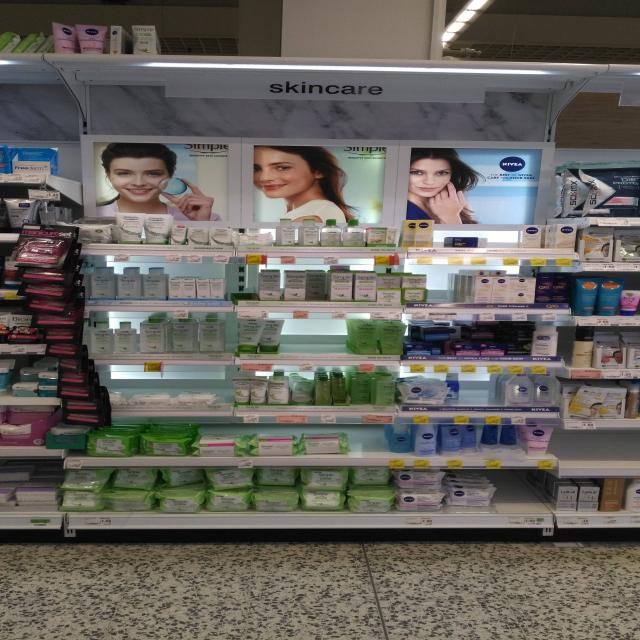empty_space: (0, 0, 15, 51), (0, 0, 14, 28), (0, 0, 14, 21), (0, 0, 14, 20), (0, 0, 7, 38), (0, 0, 8, 33), (0, 0, 9, 29), (0, 0, 13, 20), (0, 0, 8, 32), (0, 0, 15, 17), (0, 0, 14, 18), (0, 0, 8, 31), (0, 0, 13, 19), (0, 0, 15, 16), (0, 0, 9, 26), (0, 0, 8, 28), (0, 0, 7, 32), (0, 0, 13, 17), (0, 0, 11, 20), (0, 0, 7, 31), (0, 0, 12, 18), (0, 0, 7, 30), (0, 0, 11, 19), (0, 0, 12, 17), (0, 0, 7, 29), (0, 0, 11, 18), (0, 0, 6, 33), (0, 0, 7, 28), (0, 0, 12, 16), (0, 0, 6, 32), (0, 0, 6, 31), (0, 0, 6, 30), (0, 0, 12, 15), (0, 0, 11, 16), (0, 0, 5, 34), (0, 0, 6, 28), (0, 0, 6, 27), (0, 0, 10, 16), (0, 0, 5, 32), (0, 0, 6, 26), (0, 0, 5, 31), (0, 0, 6, 25), (0, 0, 5, 29), (0, 0, 6, 24), (0, 0, 5, 28), (0, 0, 10, 14), (0, 0, 6, 21), (0, 0, 5, 25), (0, 0, 4, 31), (0, 0, 5, 24), (0, 0, 5, 23), (0, 0, 4, 28), (0, 0, 11, 10), (0, 0, 12, 9), (0, 0, 4, 26), (0, 0, 4, 25), (0, 0, 5, 20), (0, 0, 7, 14), (0, 0, 4, 24), (0, 0, 8, 12), (0, 0, 6, 16), (0, 0, 7, 13), (0, 0, 5, 17), (0, 0, 6, 14), (0, 0, 7, 12), (0, 0, 4, 20), (0, 0, 3, 26), (0, 0, 7, 11), (0, 0, 5, 15), (0, 0, 9, 8), (0, 0, 6, 12), (0, 0, 4, 18), (0, 0, 7, 10), (0, 0, 6, 11), (0, 0, 5, 13), (0, 0, 8, 8), (0, 0, 3, 20), (0, 0, 7, 8), (0, 0, 6, 9), (0, 0, 2, 19), (0, 0, 5, 7)
